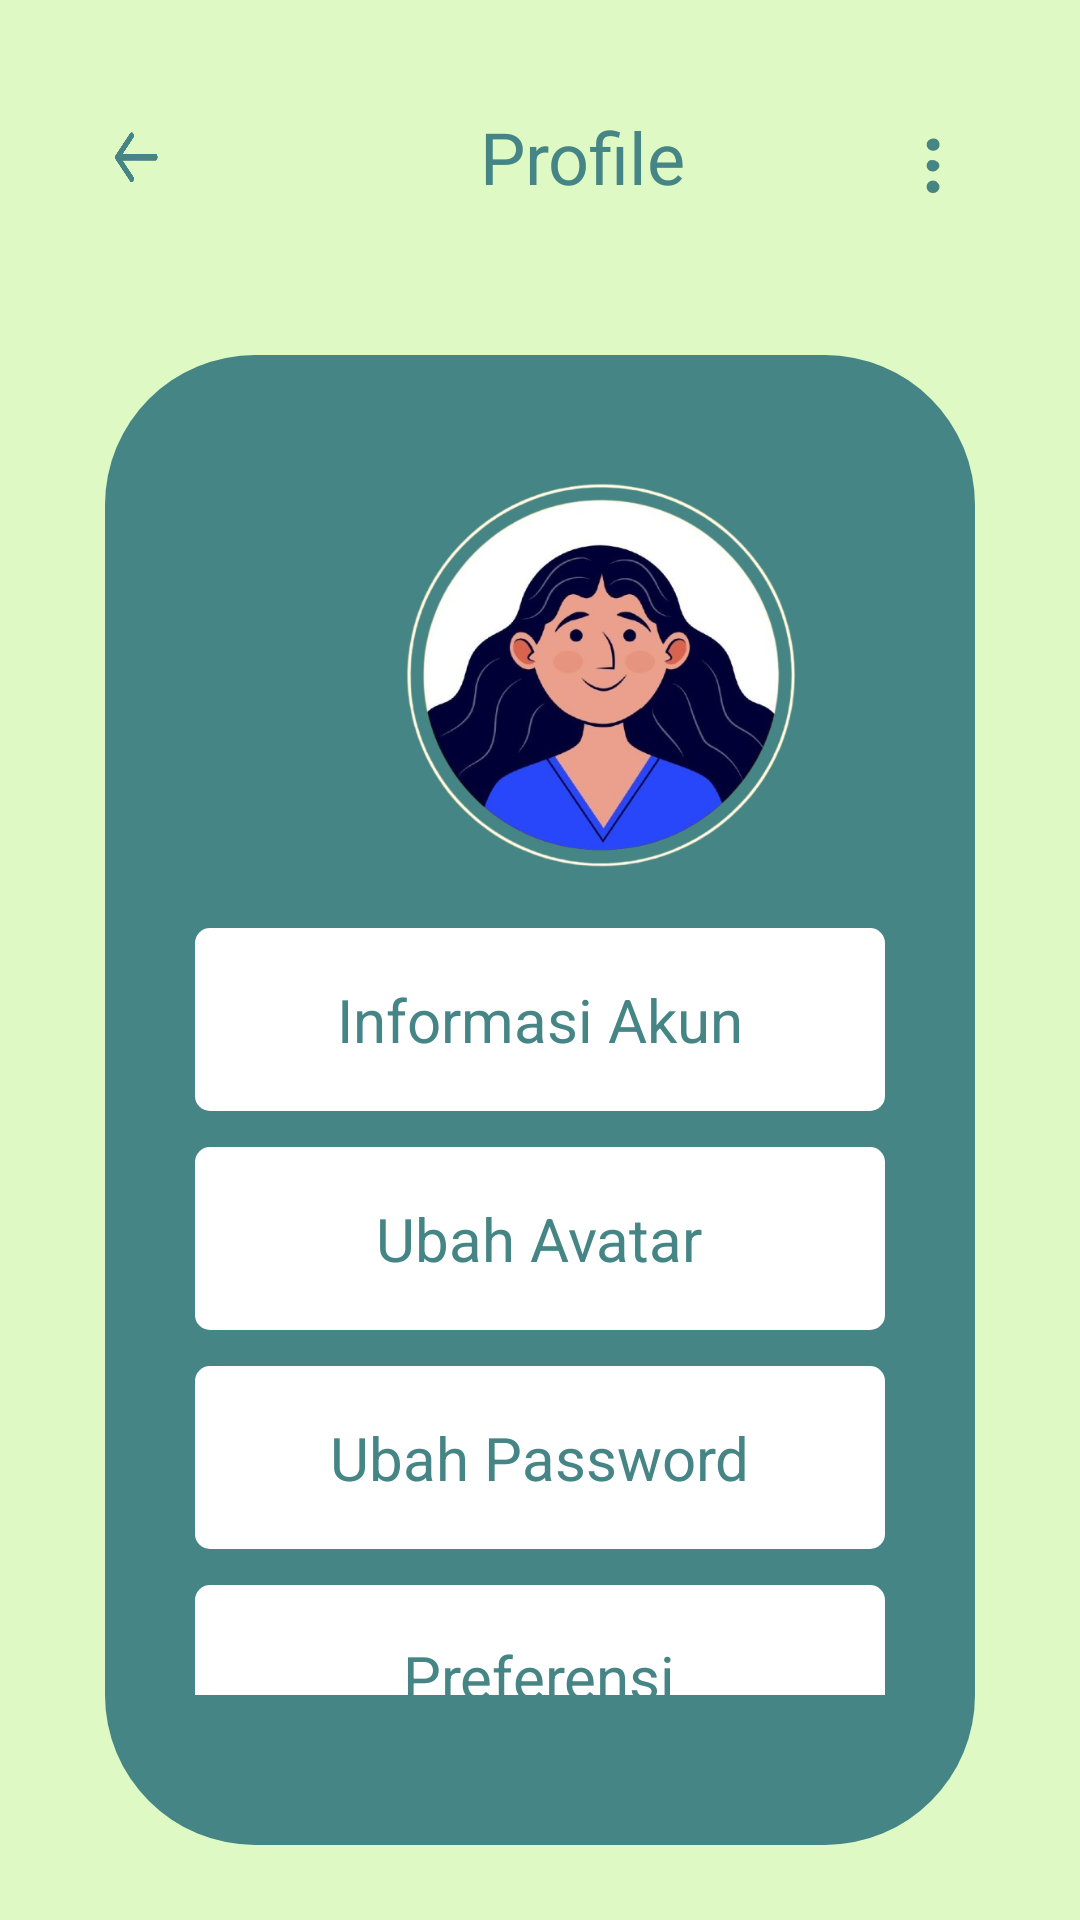

Icon click points for this 1080 × 1920 phone screenshot, format (x=x, y=y):
arrow: (x=136, y=157)
menu: (x=933, y=165)
